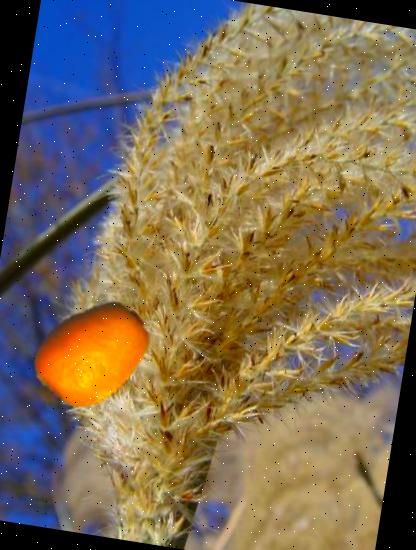Kumquats: (26, 287, 160, 422)
